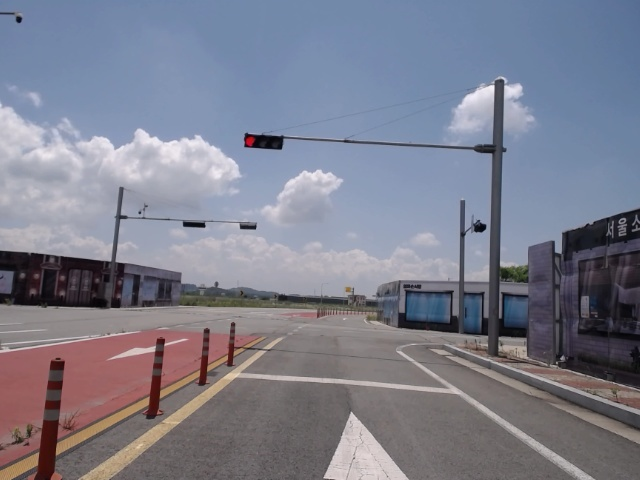red_3: (243, 134, 286, 150)
